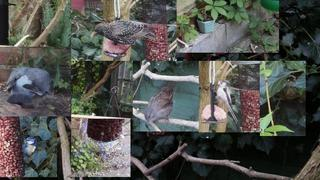blue tit: (20, 136, 37, 162)
dunnock: (144, 81, 179, 126)
long tailed tit: (215, 81, 240, 127)
starling: (91, 20, 157, 45)
wood pigeon: (6, 67, 51, 110)
